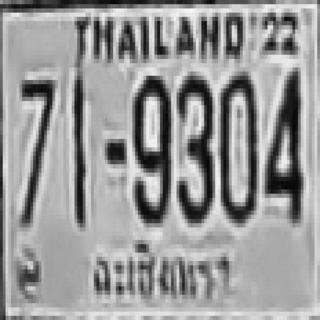N00: (218, 72, 256, 219)
N01: (72, 76, 85, 223)
N03: (175, 72, 211, 219)
N04: (262, 65, 301, 217)
N07: (18, 76, 54, 223)
N09: (132, 74, 168, 221)
P07: (86, 238, 234, 308)
